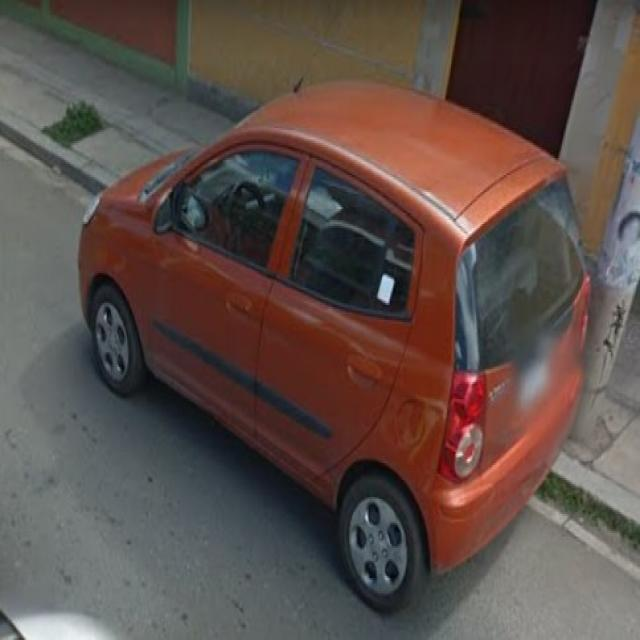Car: (85, 60, 580, 624)
